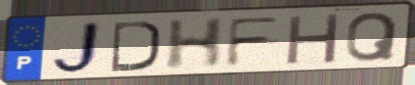D: (109, 19, 163, 73)
F: (224, 14, 285, 69)
H: (163, 15, 229, 72), (283, 12, 344, 67)
J: (48, 19, 104, 77)
Q: (343, 10, 401, 64)
